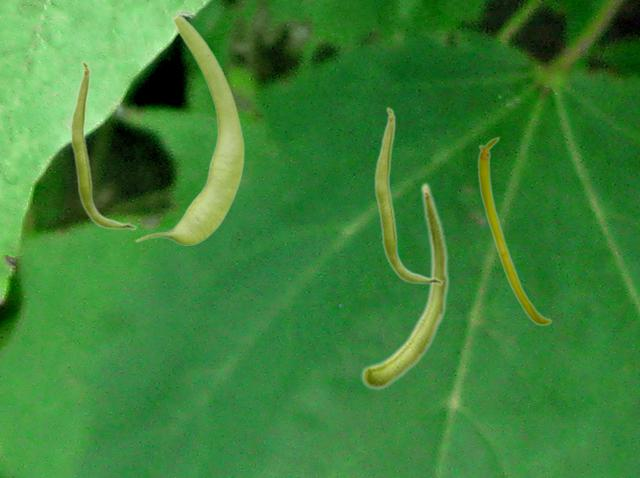french_bean: (134, 12, 244, 244), (360, 181, 449, 389), (477, 136, 551, 325), (373, 106, 443, 285), (69, 60, 136, 230)
